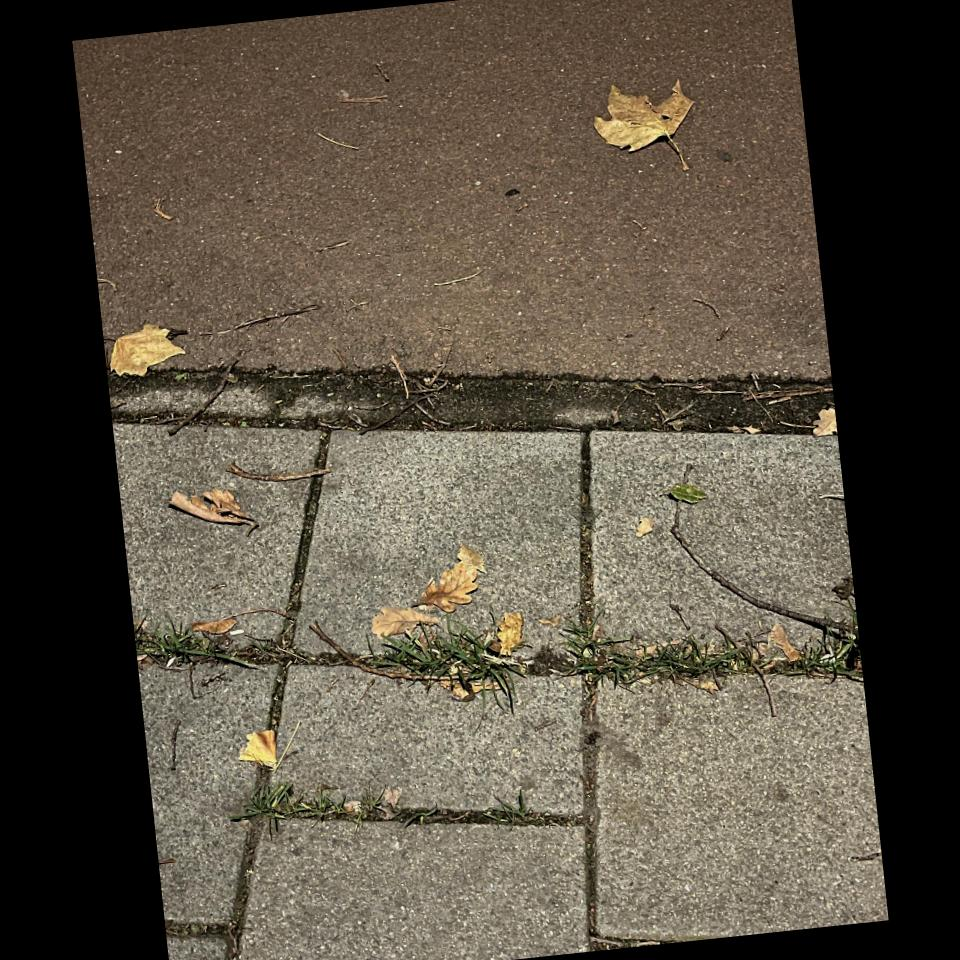weed: (351, 628, 837, 705), (133, 612, 243, 673)
